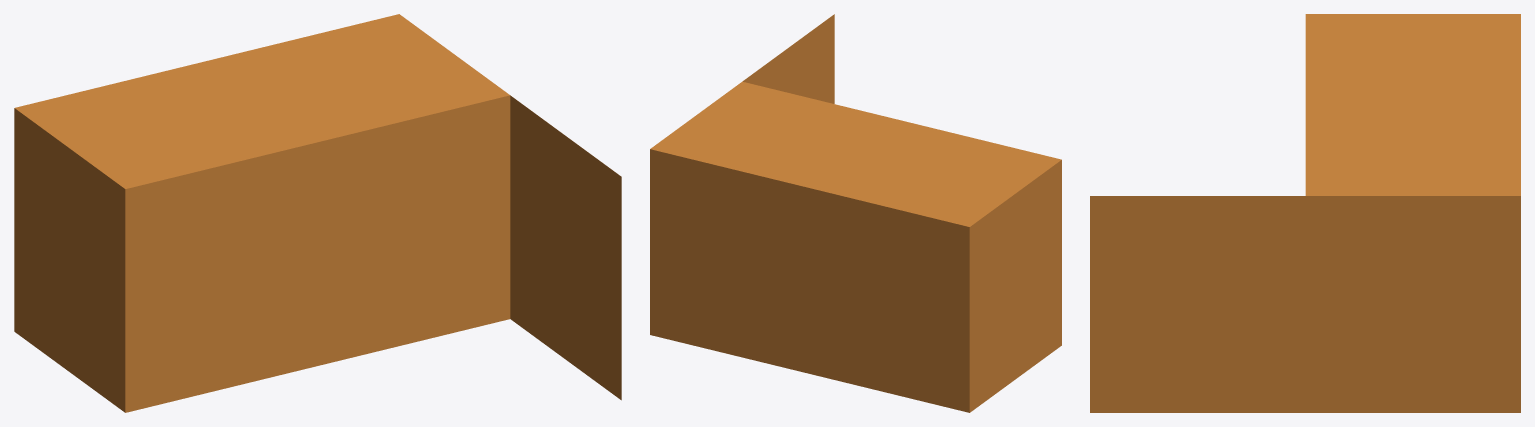
The picture shows the model from 3 angles, left to right: view 1: azimuth 30°, elevation 25°; view 2: azimuth 150°, elevation 25°; view 3: azimuth 270°, elevation 25°; orthographic projection. The views are drawn at different scales.
Parts seen in each view (by area): view 1: CORNER-B-64-p2; view 2: CORNER-B-64-p2; view 3: CORNER-B-64-p2.
Boxes of the visible parts, left/top/right/bottom form: CORNER-B-64-p2: left=14, top=14, right=621, bottom=412; CORNER-B-64-p2: left=650, top=14, right=1061, bottom=412; CORNER-B-64-p2: left=1090, top=14, right=1520, bottom=412.
Bounding box in the file's own units: 0.09 × 0.05 × 0.09.
